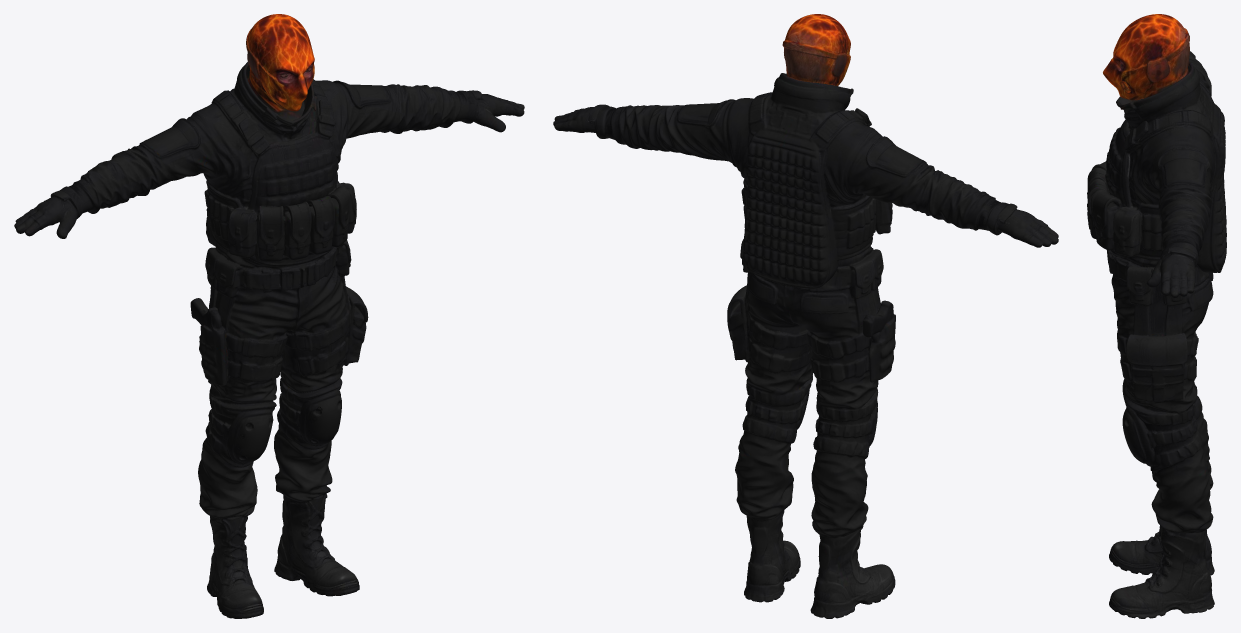
File: molotov6.glb
The picture shows the model from 3 angles, left to right: view 1: azimuth 30°, elevation 25°; view 2: azimuth 150°, elevation 25°; view 3: azimuth 270°, elevation 25°; orthographic projection.
Visible parts, largest first — view 1: mesh_node; view 2: mesh_node; view 3: mesh_node.
Part boxes in pixels (<box>): mesh_node: <box>14,14,524,618</box>; mesh_node: <box>553,14,1058,618</box>; mesh_node: <box>1087,14,1226,618</box>.
Bounding box in the file's own units: 1.74 × 1.9 × 0.4203.
1 material, 1 textured.
